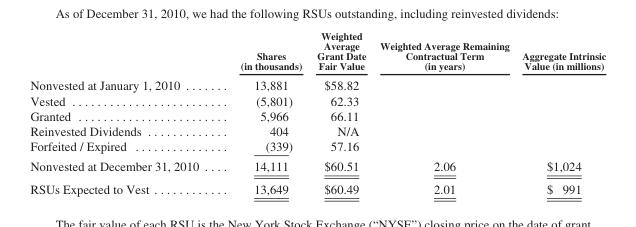table: (29, 29, 605, 195)
table column: (29, 29, 219, 195), (372, 29, 515, 195), (515, 29, 605, 195), (219, 29, 308, 195), (308, 29, 372, 195)
table column header: (29, 29, 605, 74)
table row: (29, 29, 605, 74), (29, 155, 605, 177), (29, 74, 605, 92), (29, 177, 605, 195), (29, 138, 605, 155), (29, 122, 605, 138), (29, 92, 605, 107), (29, 107, 605, 122)
